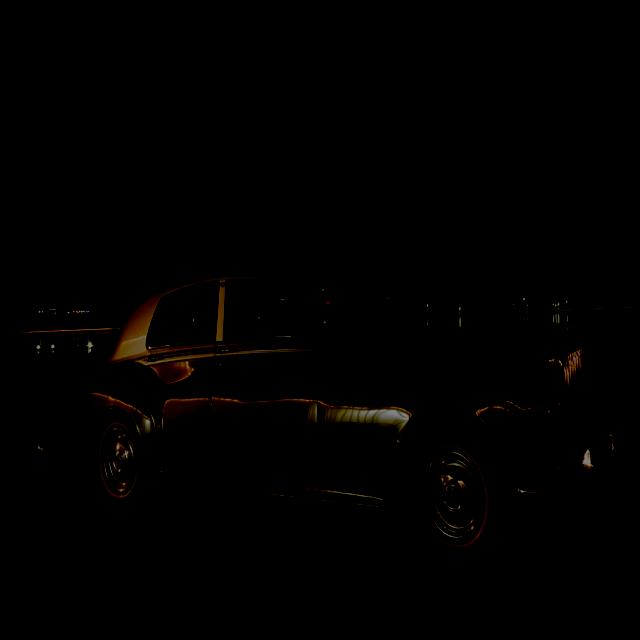Car: (26, 270, 622, 565)
